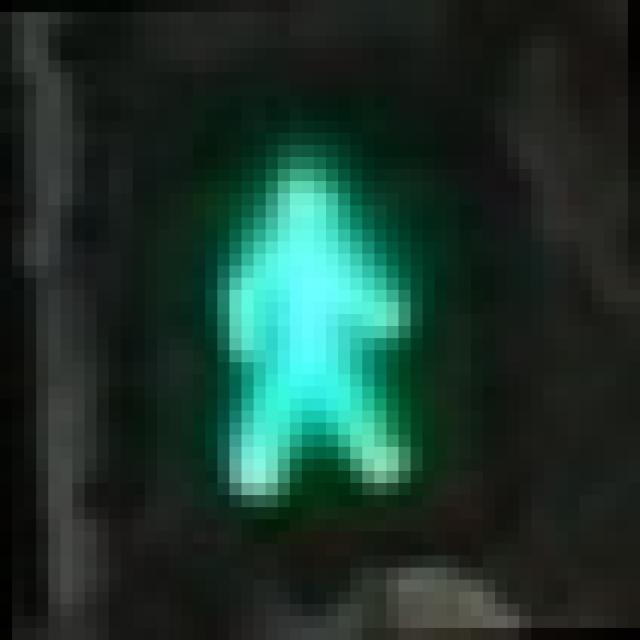green_light: (109, 84, 484, 532)
